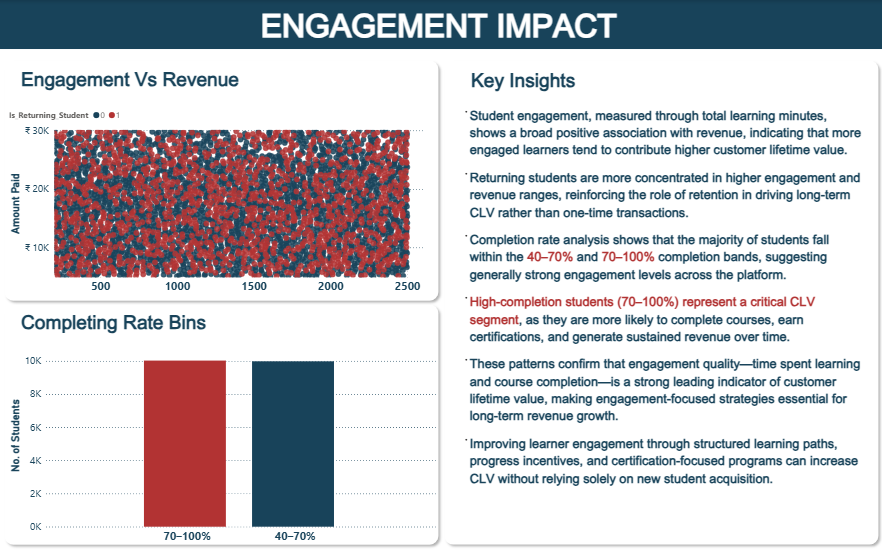

Layout of this report page (visuals, bound fields, positions):
{"tool":"powerbi","page":{"name":"Engagement Impact","canvas":[1480,920],"ordinal":2},"visuals":[{"type":"shape","box":[0,92,744,420],"z":0},{"type":"shape","box":[0,500,744,420],"z":1000},{"type":"shape","box":[0,0,1480,82],"z":2000},{"type":"scatterChart","fields":{"X":["education_clv_dataset_20000_rows.Total_Learning_Minutes"],"Y":["education_clv_dataset_20000_rows.Amount_Paid"],"Series":["education_clv_dataset_20000_rows.Is_Returning_Student"]},"box":[12,172,724,330],"z":3000},{"type":"clusteredColumnChart","fields":{"Y":["CountNonNull(education_clv_dataset_20000_rows.Student_ID)"],"Category":["education_clv_dataset_20000_rows.Completion_Rate_Bin"]},"box":[12,562,724,358],"z":4000},{"type":"textbox","box":[12,0,1448,82],"z":5000},{"type":"textbox","box":[32.5,105,667.5,67.5],"z":6000},{"type":"textbox","box":[32.5,512.5,667.5,65],"z":7000},{"type":"shape","box":[736,92,744,828],"z":8000},{"type":"textbox","box":[785,107.5,677.5,65],"z":9000},{"type":"textbox","box":[764,172,688,722],"z":10000}]}

Visuals, with their boxes in screenshot pixels (x1, y1, x2, y2), scaled from the page's 1480x920 canvas onto the 882x550 screenshot:
shape: crop(0, 55, 443, 306)
shape: crop(0, 299, 443, 549)
shape: crop(0, 0, 881, 49)
scatterChart - education_clv_dataset_20000_rows.Total_Learning_Minutes x education_clv_dataset_20000_rows.Amount_Paid: crop(7, 103, 439, 300)
clusteredColumnChart - CountNonNull(education_clv_dataset_20000_rows.Student_ID) x education_clv_dataset_20000_rows.Completion_Rate_Bin: crop(7, 336, 439, 549)
textbox: crop(7, 0, 870, 49)
textbox: crop(19, 63, 417, 103)
textbox: crop(19, 306, 417, 345)
shape: crop(439, 55, 881, 549)
textbox: crop(468, 64, 872, 103)
textbox: crop(455, 103, 865, 534)
